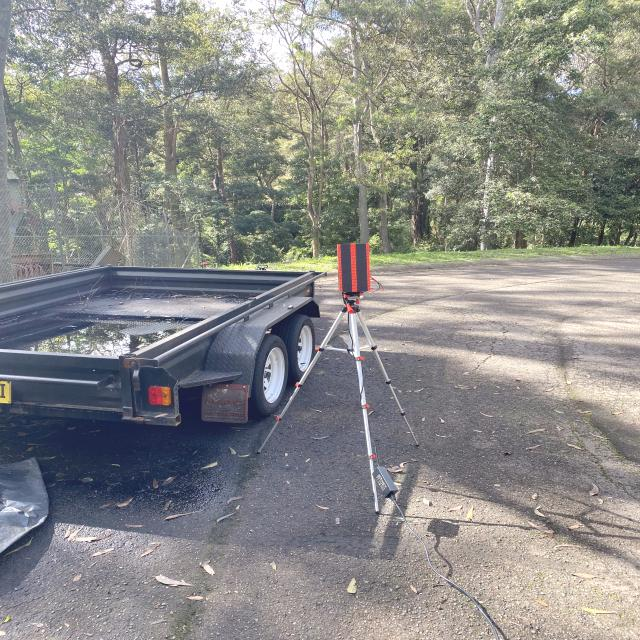matrix: (335, 243, 372, 293)
